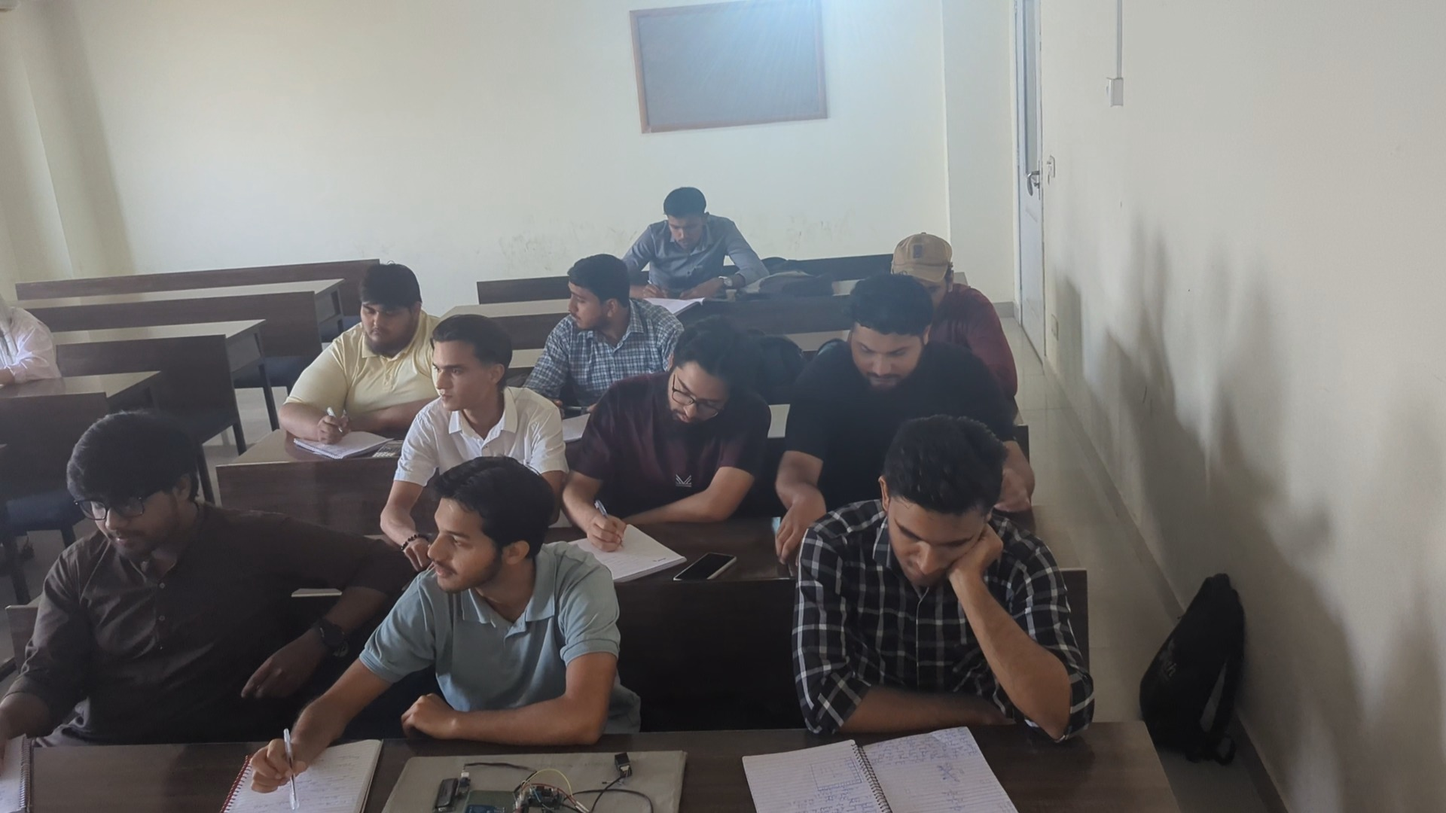look_forward: (377, 454, 638, 743), (413, 312, 548, 453)
read: (792, 413, 1098, 747), (0, 405, 294, 733), (789, 272, 988, 411), (893, 232, 974, 299)
turn_head: (526, 259, 663, 379)
write: (562, 317, 774, 558), (278, 261, 422, 459), (632, 187, 752, 310)
